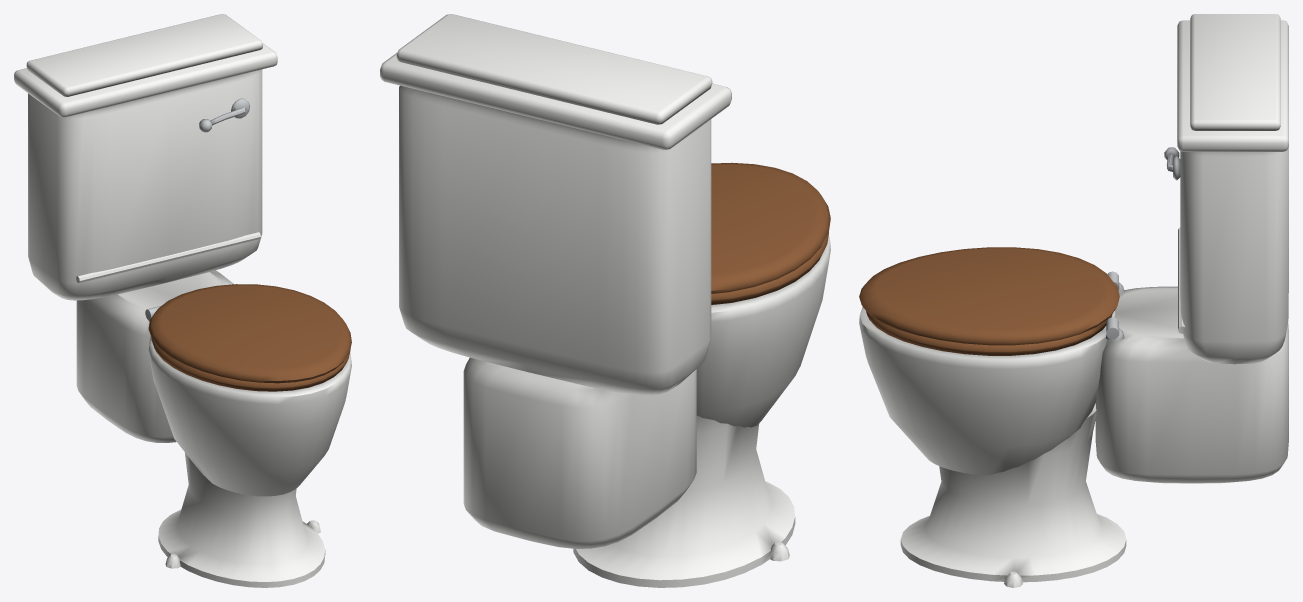
The model's file is toiletClassic.glb.
3 renders of one model, left to right at view 1: azimuth 30°, elevation 25°; view 2: azimuth 150°, elevation 25°; view 3: azimuth 270°, elevation 25°, orthographic. The views are drawn at different scales.
Visible parts, largest first — view 1: body, lid; view 2: body, lid; view 3: body, lid.
Boxes of the visible parts, bbox=[...] form: body: bbox=[14, 14, 351, 587]; lid: bbox=[148, 284, 351, 383]; body: bbox=[380, 14, 830, 587]; lid: bbox=[711, 162, 830, 293]; body: bbox=[859, 14, 1288, 587]; lid: bbox=[859, 247, 1119, 345].
Size of the model in its own units: 0.47 by 0.875 by 0.712.
